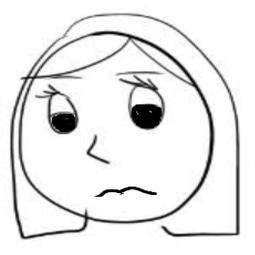eye: (119, 75, 171, 132), (34, 82, 81, 138)
eyebrow: (110, 68, 168, 78), (54, 73, 85, 80)
line_unsmiling_mouth: (86, 181, 166, 205)
pointy_nose: (80, 131, 116, 170)
